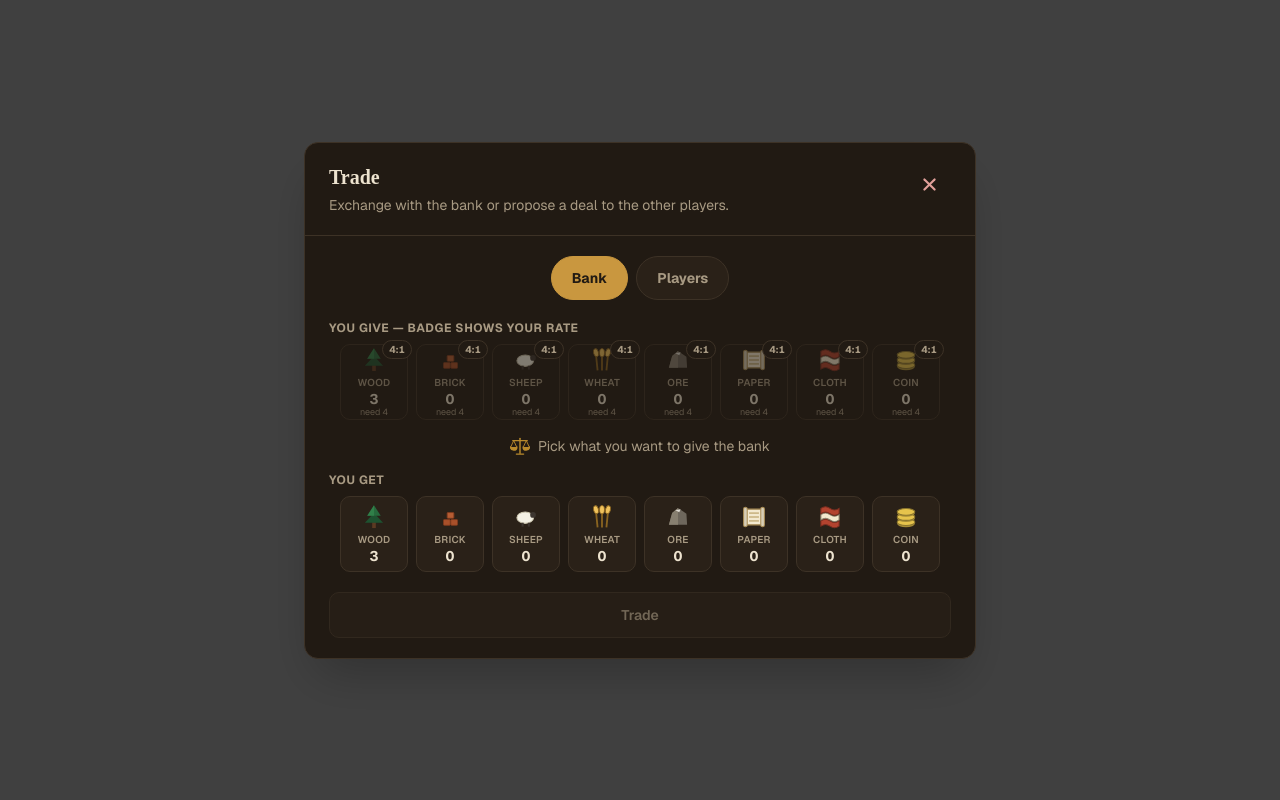
Test case: TradeModal — players › builds the deal one click at a time and lets it be undone
What coordinates should you click on to do the following:
click the button "Players"
I would click on:
 (683, 278)
Its box is [636, 256, 729, 300].
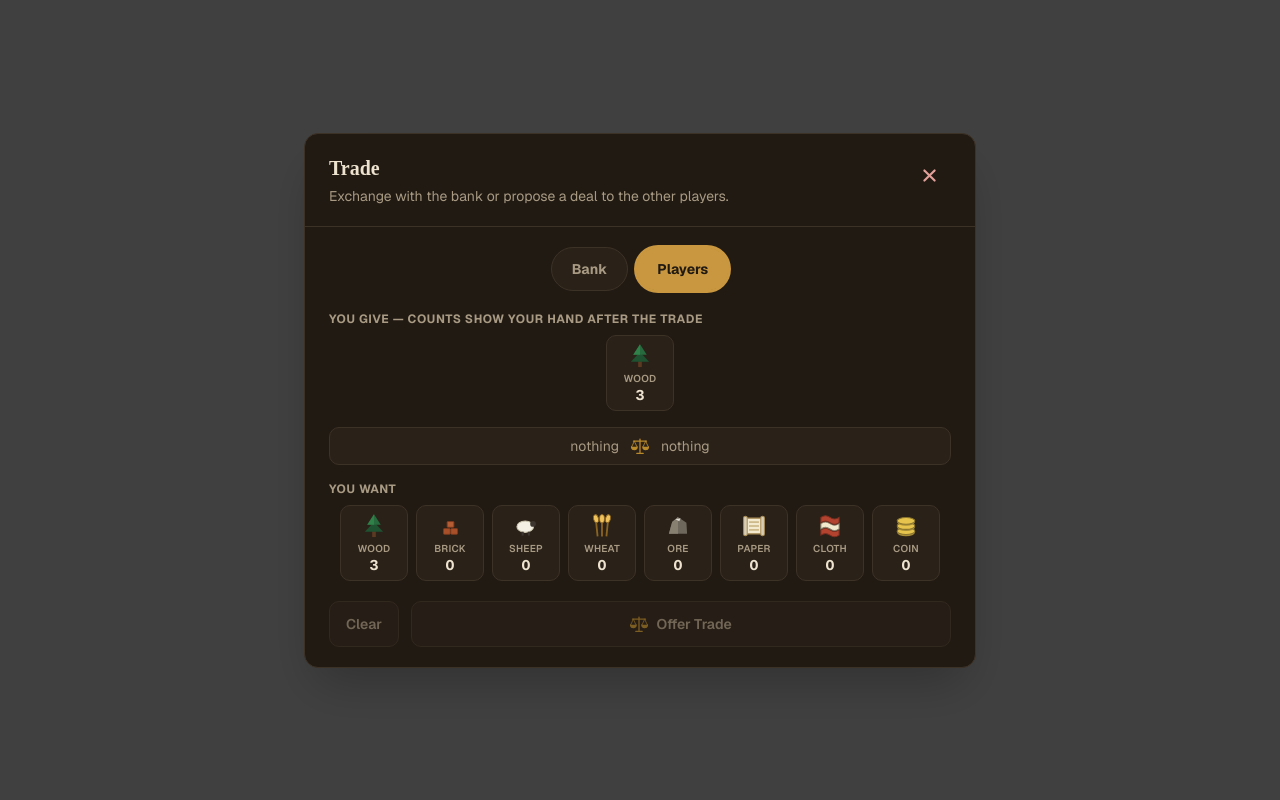
What coordinates should you click on to do the following:
click the button with aria-label "Offer one more Wood"
I would click on:
 (640, 372)
Its box is [606, 334, 674, 410].
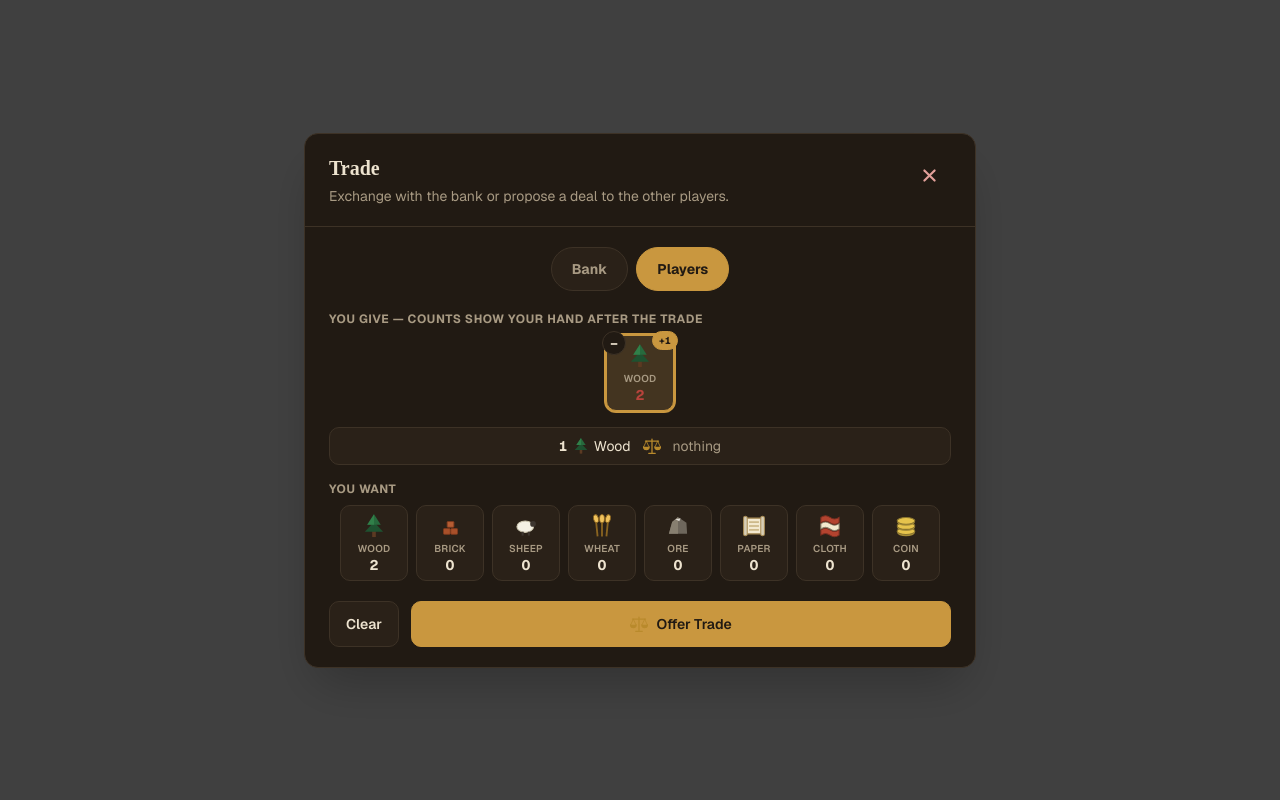
What coordinates should you click on to do the following:
click the button with aria-label "Offer one more Wood"
I would click on:
 (640, 372)
Its box is [606, 334, 674, 410].
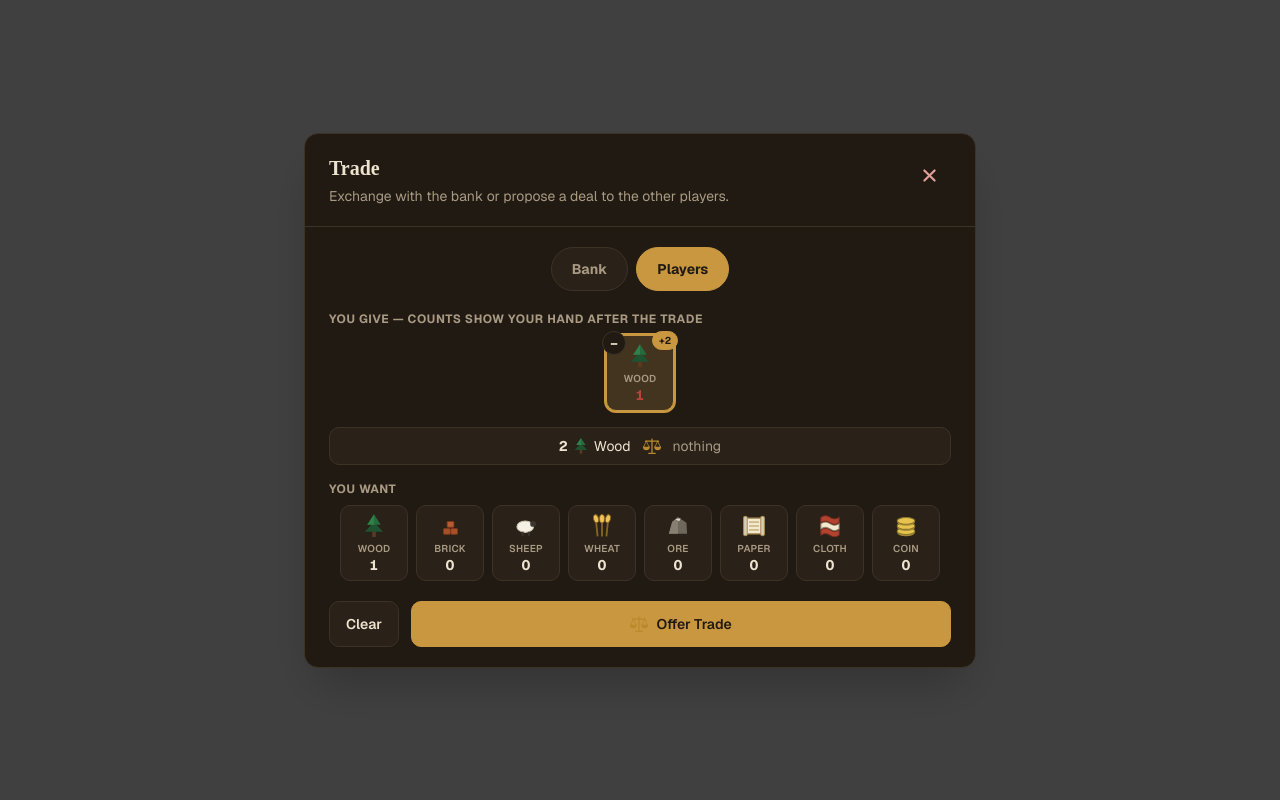
Expected: the button with aria-label "Offer one more Wood, offering 2 of 3" is shown, [606, 334, 674, 410]
What coordinates should you click on to do the following:
click the button named "Offer one fewer Wood"
I would click on:
 (614, 342)
Its box is [602, 330, 626, 354].
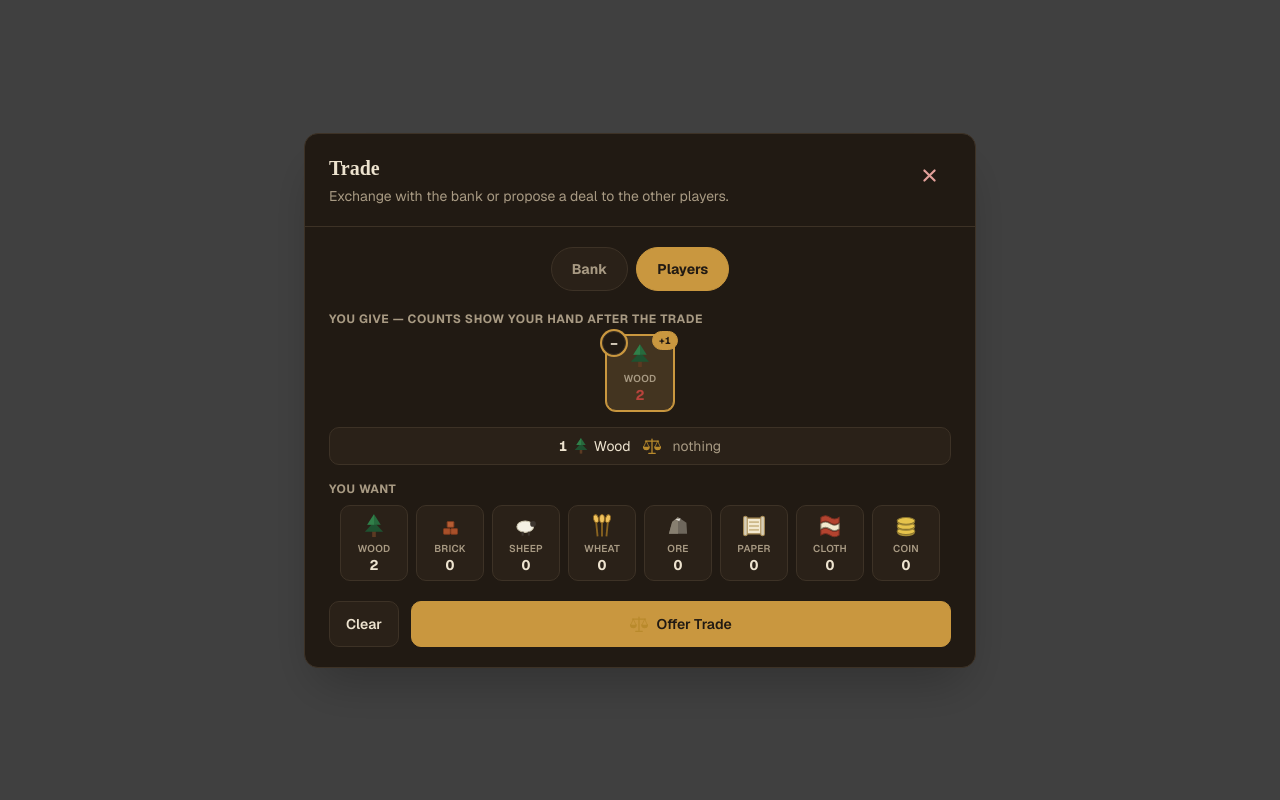
Expected: the button with aria-label "Offer one more Wood, offering 1 of 3" is shown, [606, 334, 674, 410]
